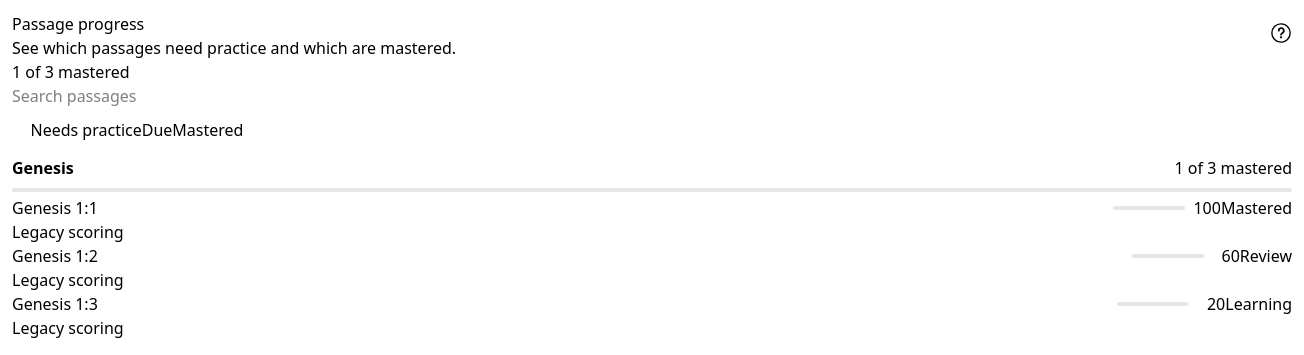
Test: PassageBrowser › filters by needs practice, due, and mastered
This screenshot has width=1304, height=355.
Click the button "Mastered".
click(208, 130)  # box [172, 108, 243, 152]
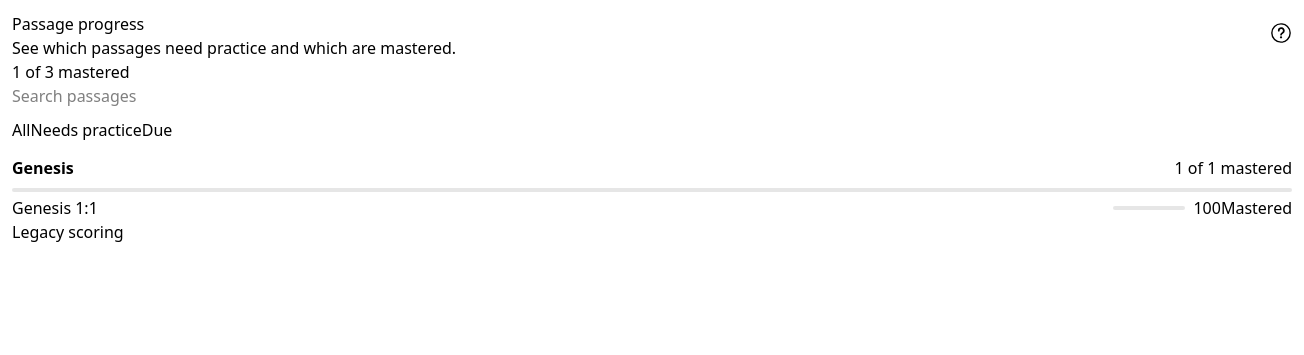
Expected: the element with test id "progress-mastery" shows "Genesis 1:1", [12, 197, 98, 219]
Expected: the element with test id "progress-mastery" no longer shows "Genesis 1:2"
Click the button "Due".
click(157, 130)  # box [142, 108, 172, 152]
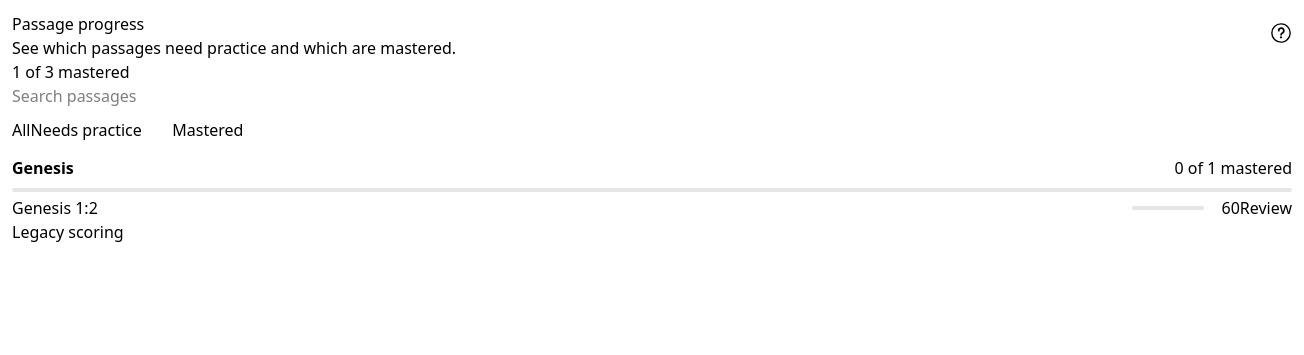
Expected: the element with test id "progress-mastery" shows "Genesis 1:2", [12, 197, 98, 219]
Expected: the element with test id "progress-mastery" no longer shows "Genesis 1:1"
Click the button "Needs practice".
click(86, 130)  # box [30, 108, 142, 152]
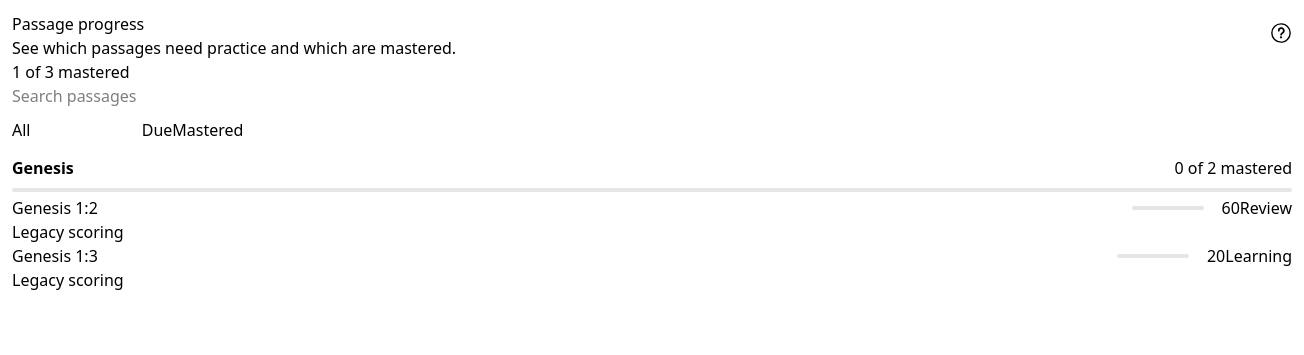
Expected: the element with test id "progress-mastery" shows "Genesis 1:2", [12, 197, 98, 219]
Expected: the element with test id "progress-mastery" does not show "Genesis 1:1"
Expected: the element with test id "progress-mastery" shows "Genesis 1:3", [12, 245, 98, 267]
